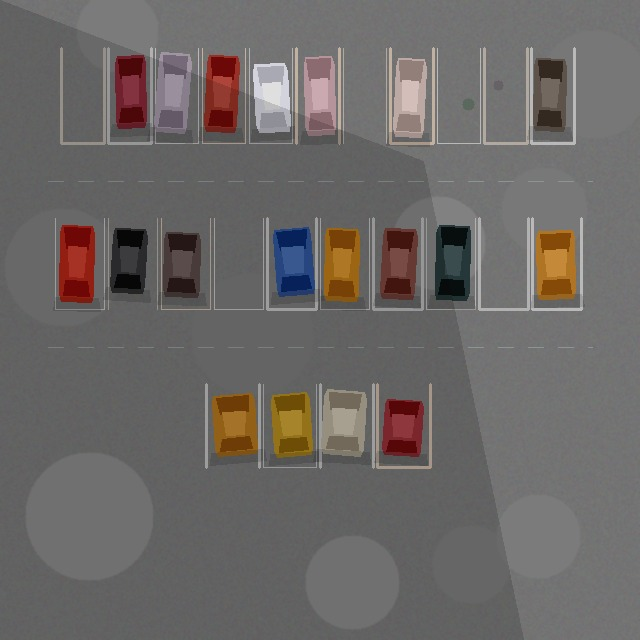space-empty: (214, 218, 263, 309), (479, 218, 528, 309), (61, 48, 104, 143), (343, 48, 386, 143), (437, 48, 480, 143), (484, 48, 527, 143)
space-occupied: (55, 218, 104, 309), (108, 218, 157, 309), (161, 218, 210, 309), (267, 218, 316, 309), (320, 218, 369, 309), (373, 218, 422, 309), (426, 218, 475, 309), (532, 218, 581, 309), (206, 384, 259, 467), (263, 384, 316, 467), (320, 384, 373, 467), (377, 384, 430, 467), (108, 48, 151, 143), (155, 48, 198, 143), (202, 48, 245, 143), (249, 48, 292, 143), (296, 48, 339, 143), (390, 48, 433, 143), (531, 48, 574, 143)
